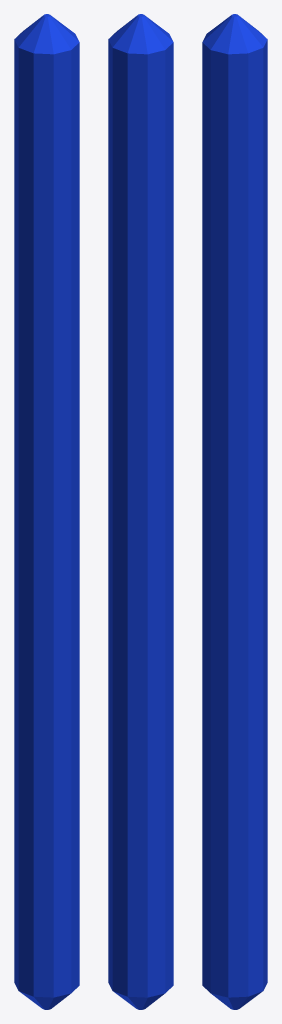
Rendered from projectile.fbx.
3 renders of one model, left to right at view 1: azimuth 30°, elevation 25°; view 2: azimuth 210°, elevation 25°; view 3: azimuth 330°, elevation 25°, orthographic.
Visible parts, largest first — view 1: Cylinder; view 2: Cylinder; view 3: Cylinder.
Part boxes in pixels (left/top/right/bottom): Cylinder: left=14, top=14, right=79, bottom=1009; Cylinder: left=108, top=14, right=173, bottom=1009; Cylinder: left=202, top=14, right=267, bottom=1009.
Bounding box in the file's own units: 12 × 200 × 11.41.
